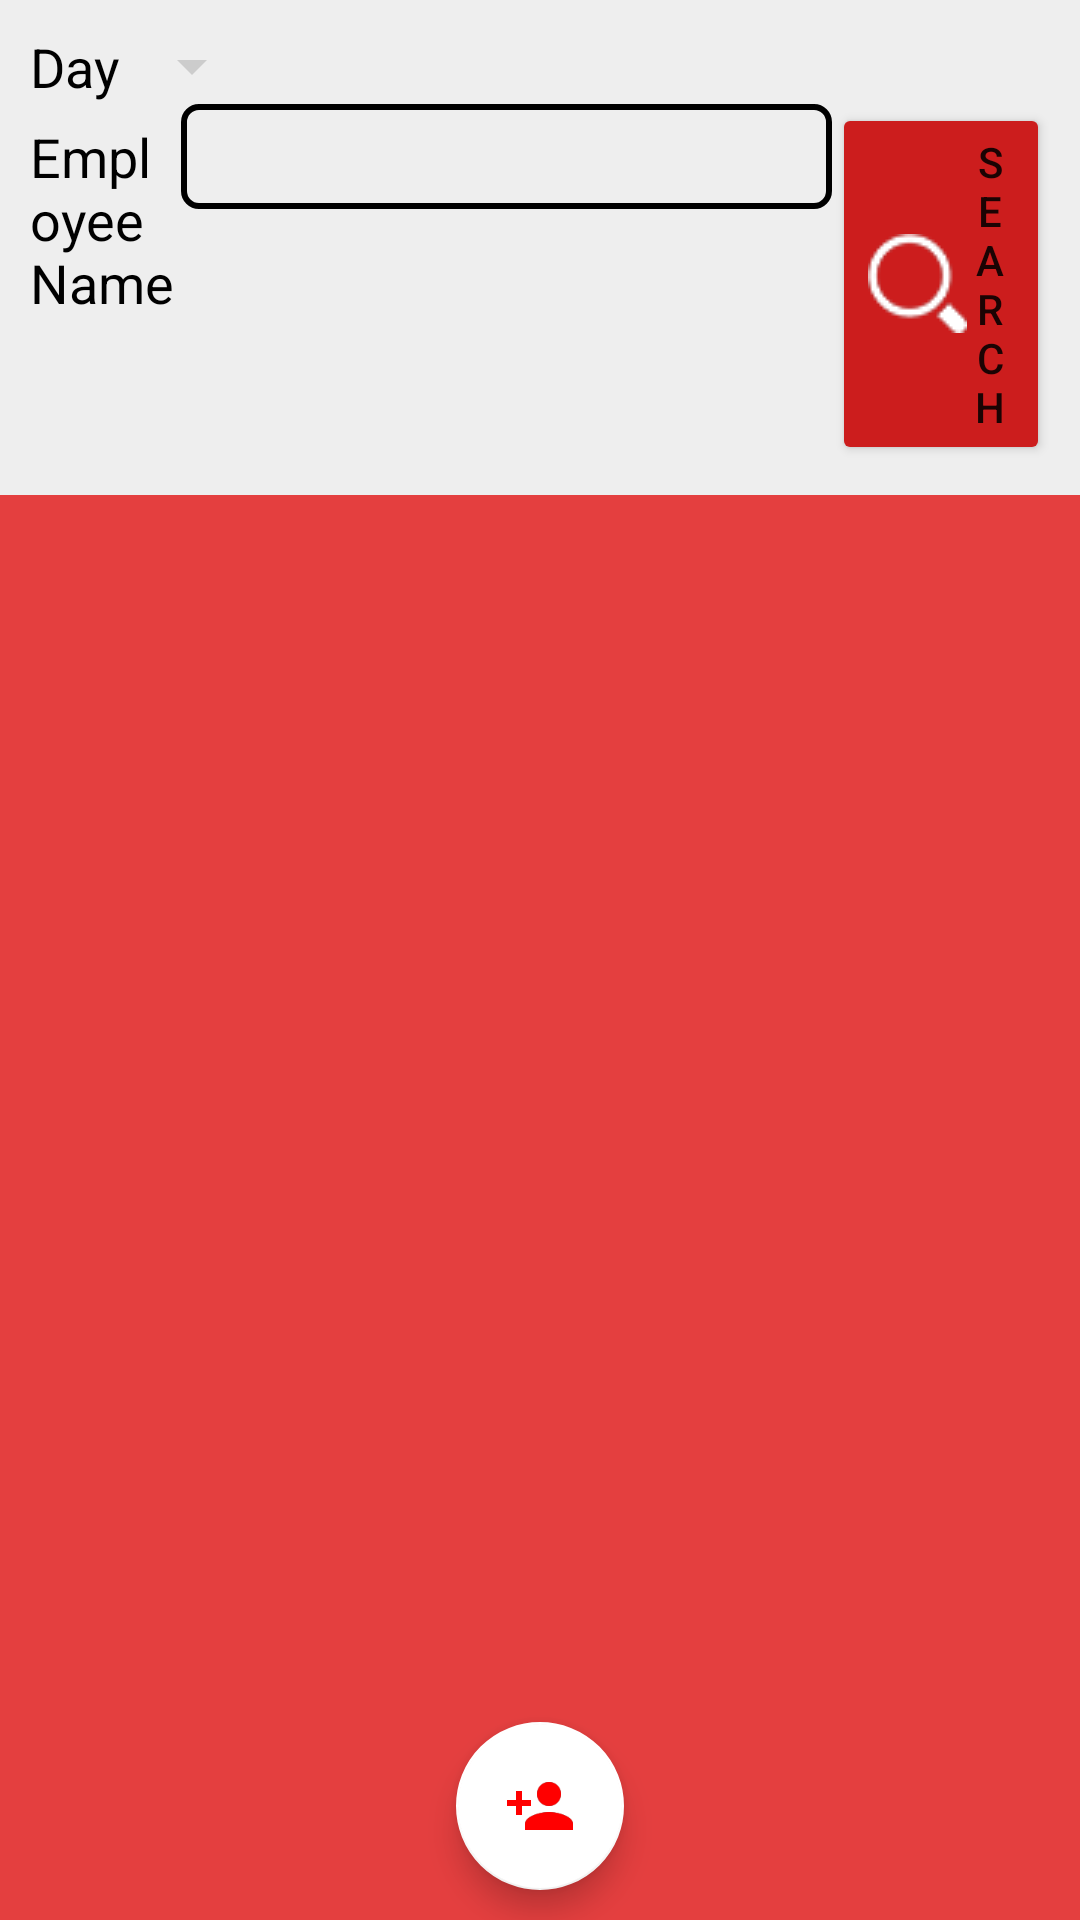

Locate icon controls on the screen. Image size 1080 x 1920, boxes as (x1, y1, x2, y2).
add account: (456, 1722, 624, 1890)
